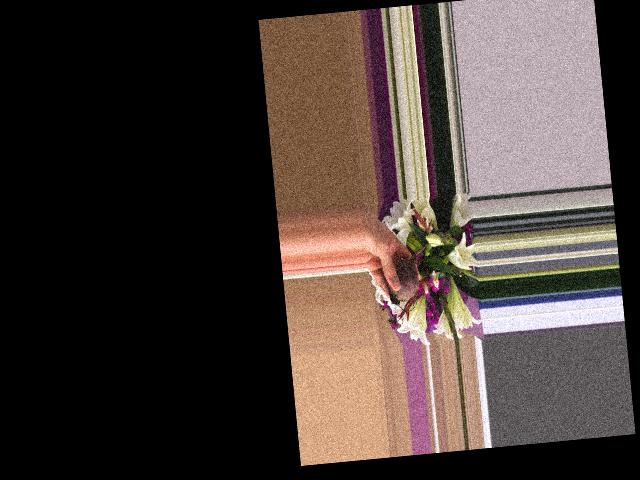beet: (384, 242, 443, 313)
